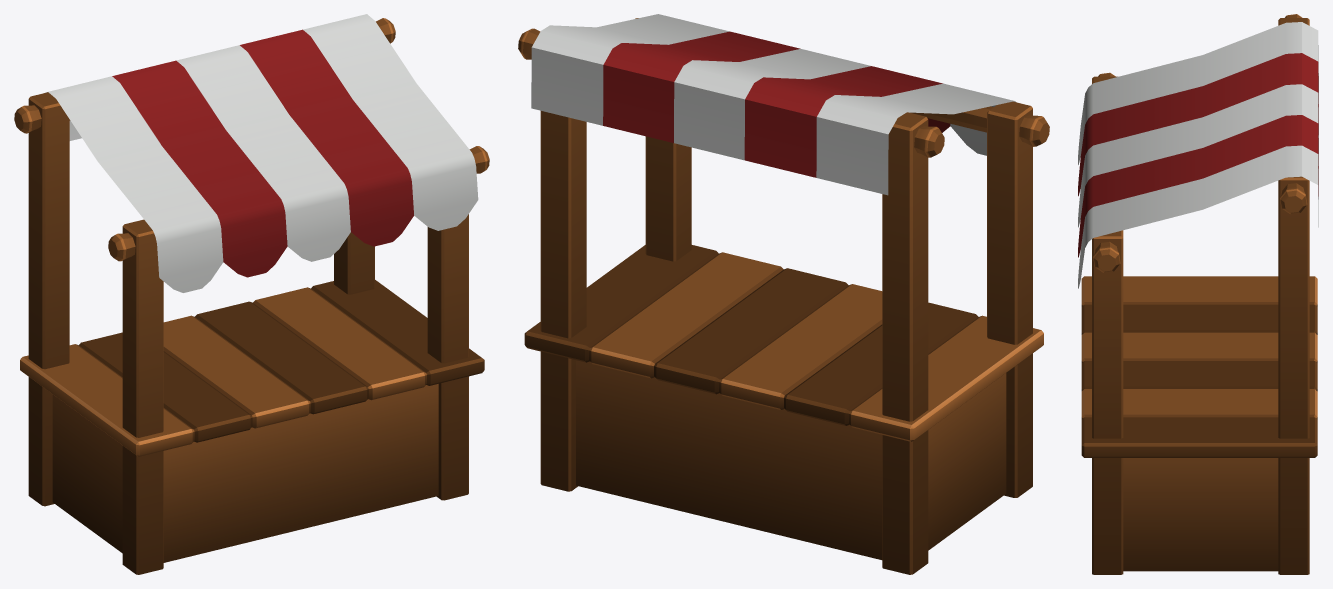
File: Stall-0.fbx
The picture shows the model from 3 angles, left to right: view 1: azimuth 30°, elevation 25°; view 2: azimuth 150°, elevation 25°; view 3: azimuth 270°, elevation 25°; orthographic projection. The views are drawn at different scales.
Parts seen in each view (by area): view 1: Stall-0; view 2: Stall-0; view 3: Stall-0.
Part boxes in pixels (x1=…): Stall-0: x1=14, y1=14, x2=489, y2=574; Stall-0: x1=518, y1=14, x2=1049, y2=574; Stall-0: x1=1078, y1=14, x2=1318, y2=574.
Size of the model in its own units: 319 by 330 by 180.
